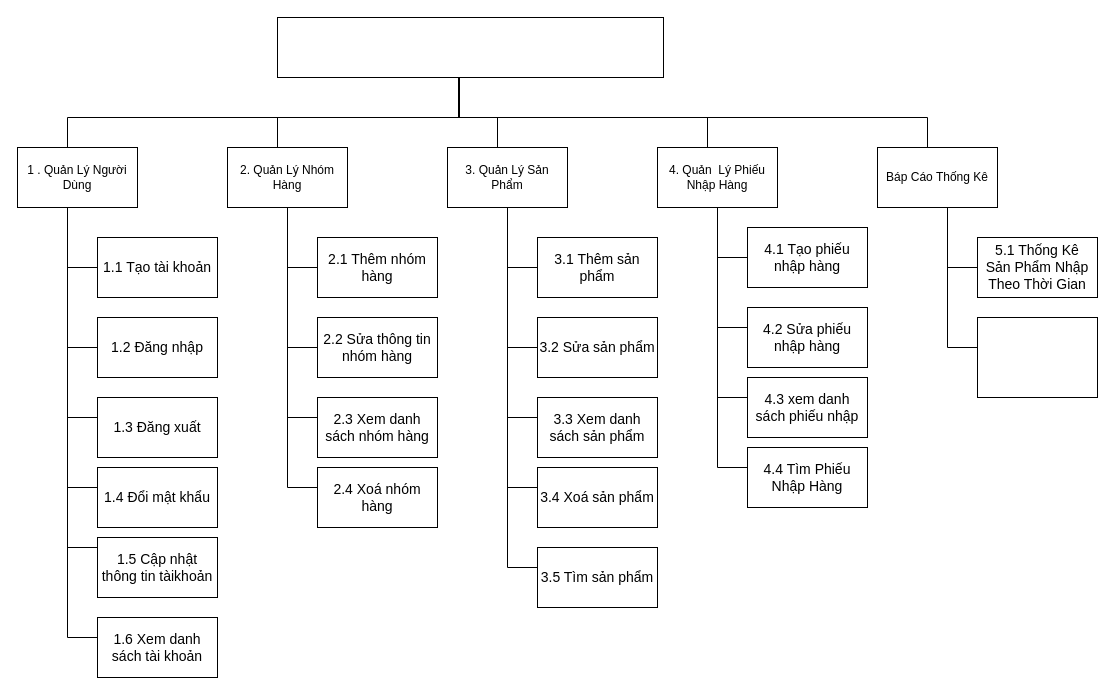
The diagram is 1115 pixels wide and 695 high, and some of its shapes have lost their labels. The shapes that lost their labels are listed below. From the top down, each one's centre as x and y in pixels, then its label:
At [470,47]: "Quản Lý Nhập Hàng Thiết Bị Bếp BOSCH".
At [1037,357]: "5.2 Thống Kê Phiếu NhậpTheo Nhân Viên và Thời Gian".
